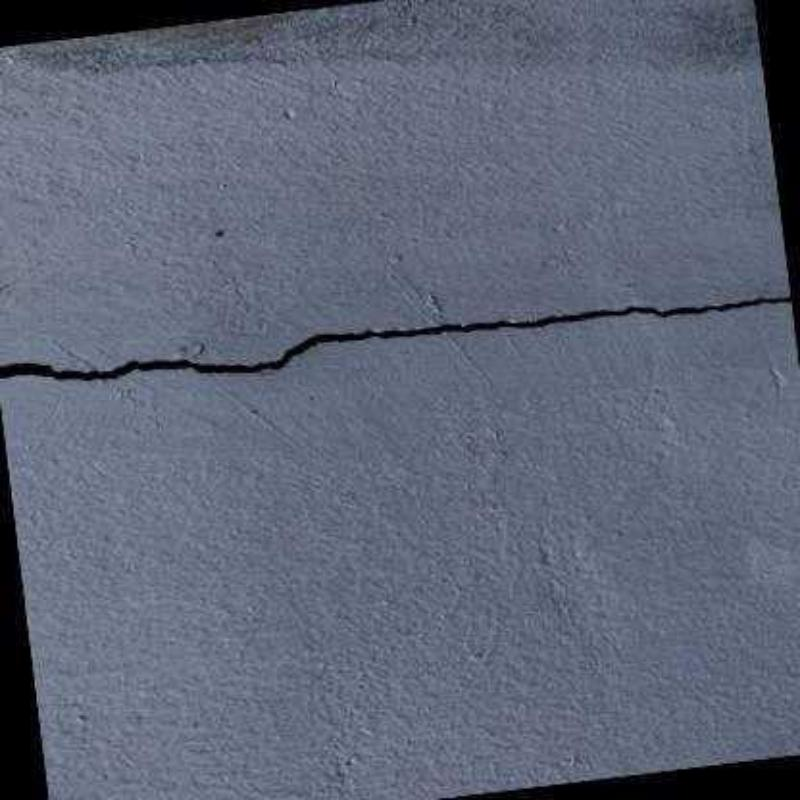pothole: (0, 295, 791, 382)
